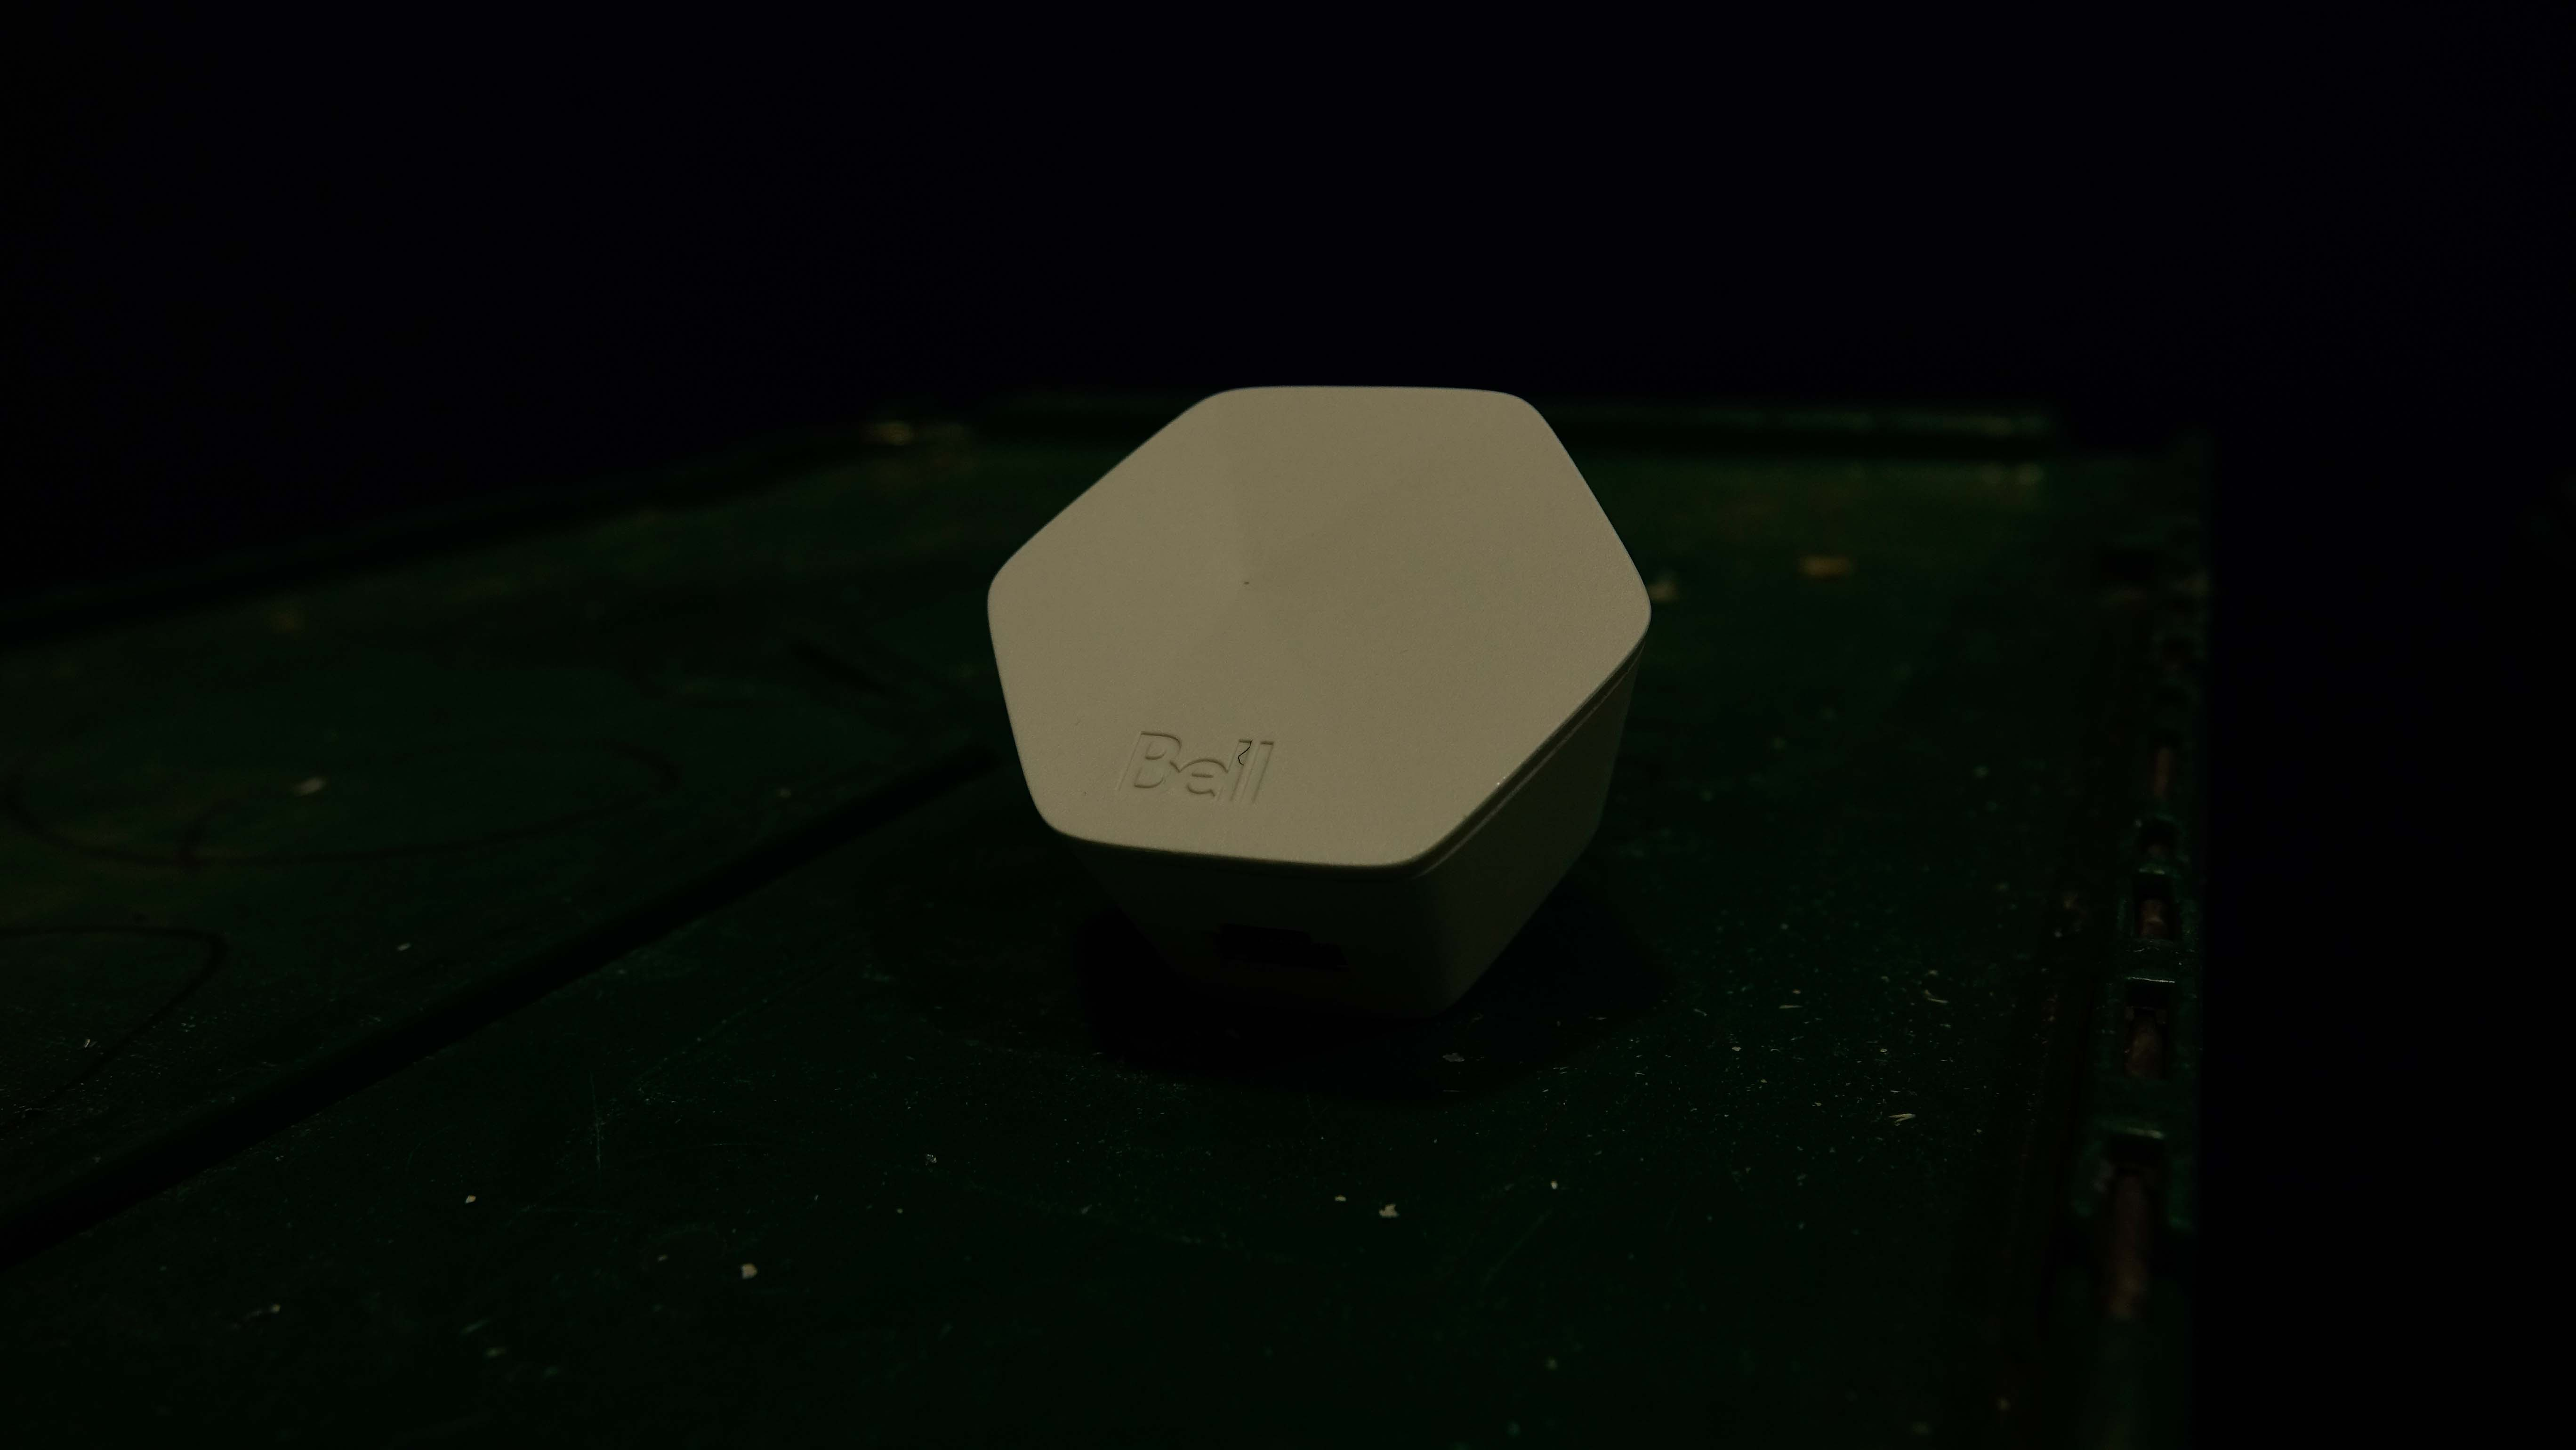pod: (971, 377, 1652, 1026)
